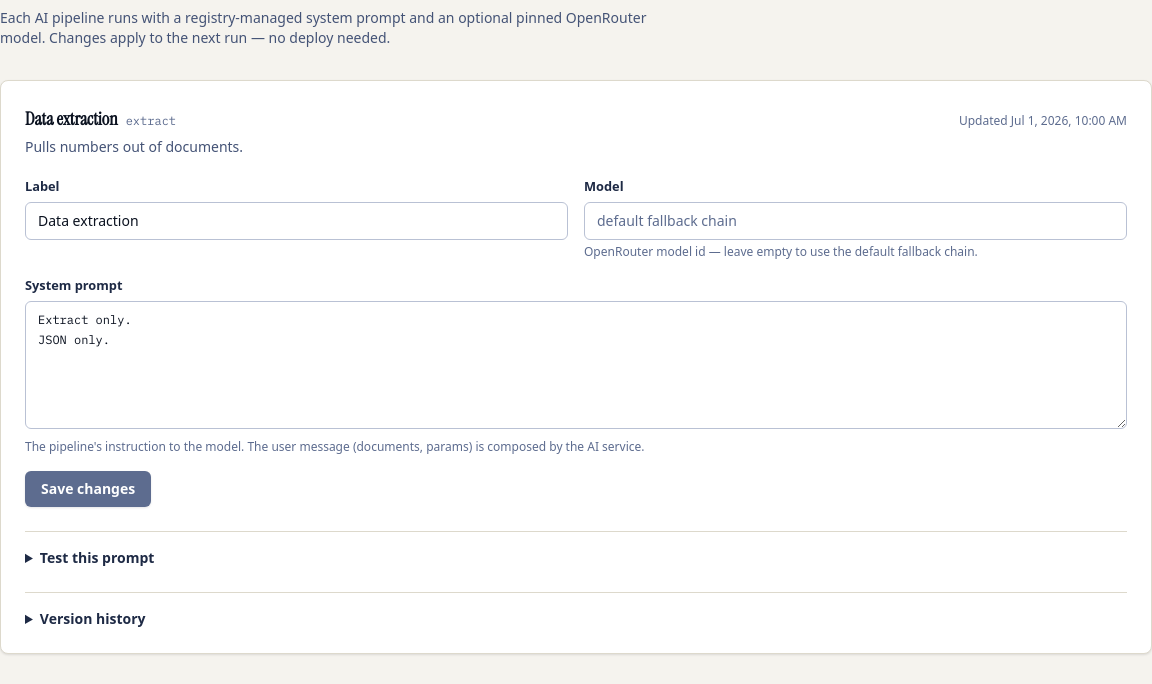
BotPromptsPage — version history › reverts to a chosen version and refreshes both the editor and the history
Click the heading "Version history" at {"x": 93, "y": 619}, box [40,609,146,628]
(page scrolled)
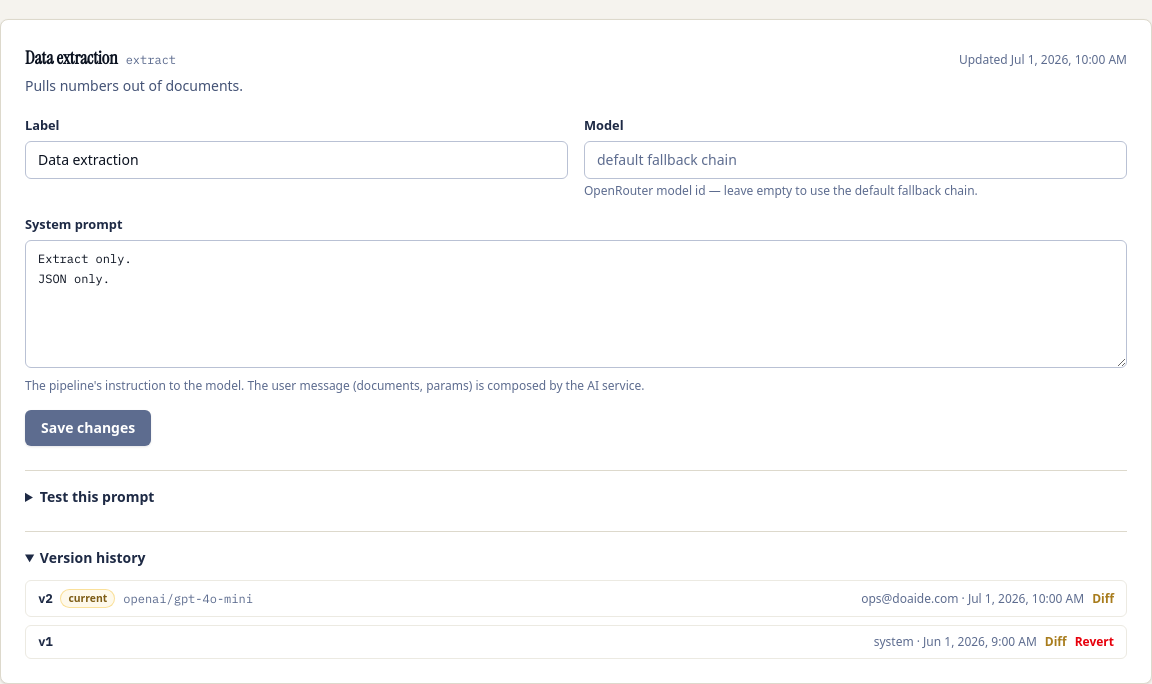
Check: the text "v1" is shown, box [38,634,52,650]
Click the button "Revert" at {"x": 1094, "y": 642}, box [1075,634,1114,650]
(page scrolled)
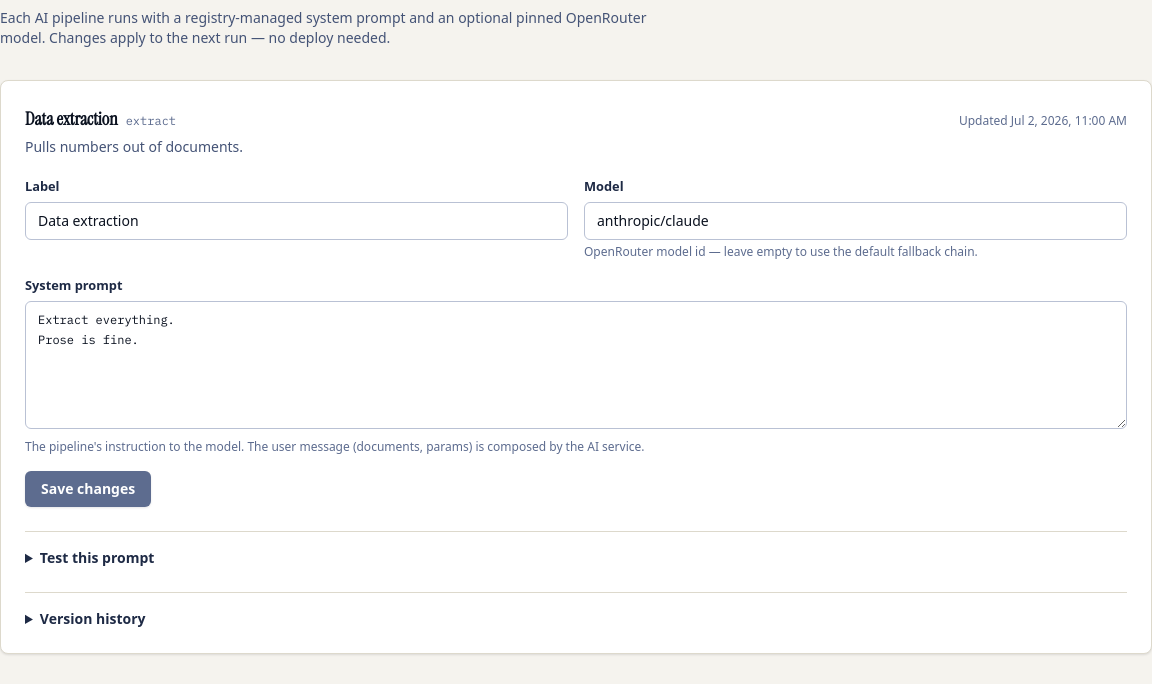
Check: the field labelled "Model" holds "anthropic/claude", box [584,202,1127,240]
